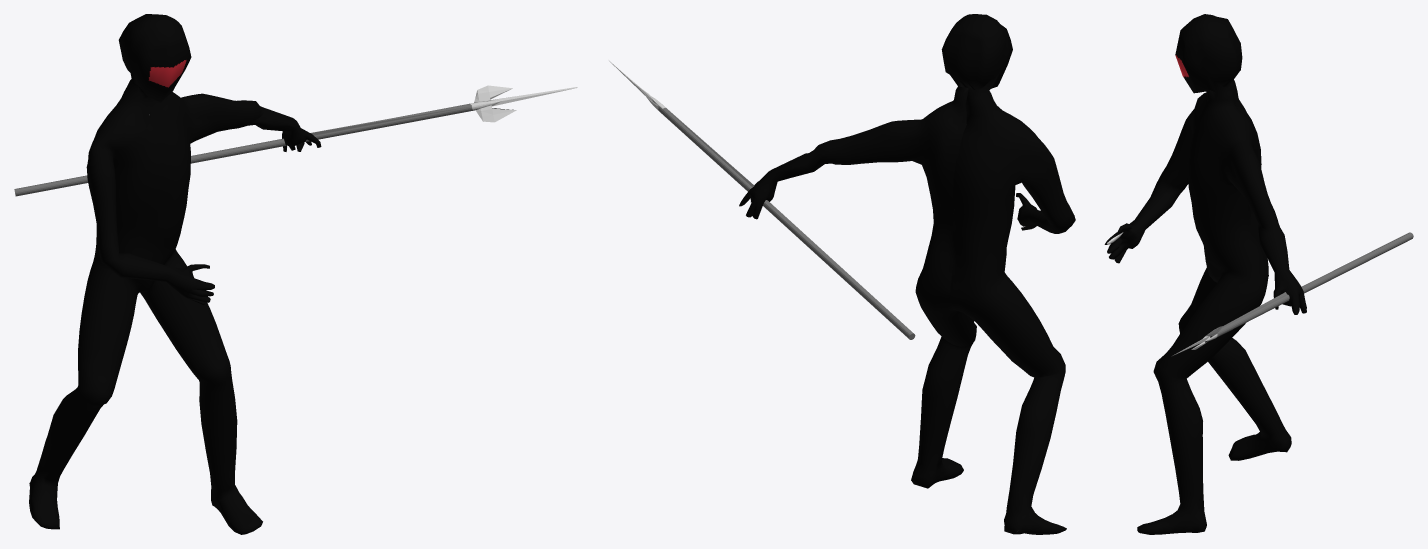
Rendered from boss_sweep_after.obj.
3 views of the same model, side by side, from view 1: azimuth 30°, elevation 25°; view 2: azimuth 150°, elevation 25°; view 3: azimuth 270°, elevation 25° (orthographic). The views are drawn at different scales.
Parts seen in each view (by area): view 1: Cube_Cube.001; view 2: Cube_Cube.001; view 3: Cube_Cube.001.
Boxes of the visible parts, x1,y1,x2,y2 form: Cube_Cube.001: (14, 14, 577, 534); Cube_Cube.001: (608, 14, 1075, 534); Cube_Cube.001: (1104, 14, 1413, 534).
Bounding box in the file's own units: 7.02 × 6.7 × 3.84.
1 material, 1 textured.
